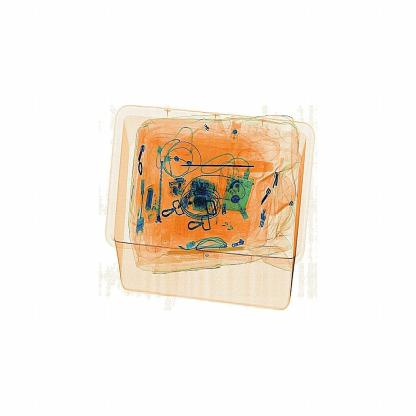wrench: (174, 145, 287, 178)
